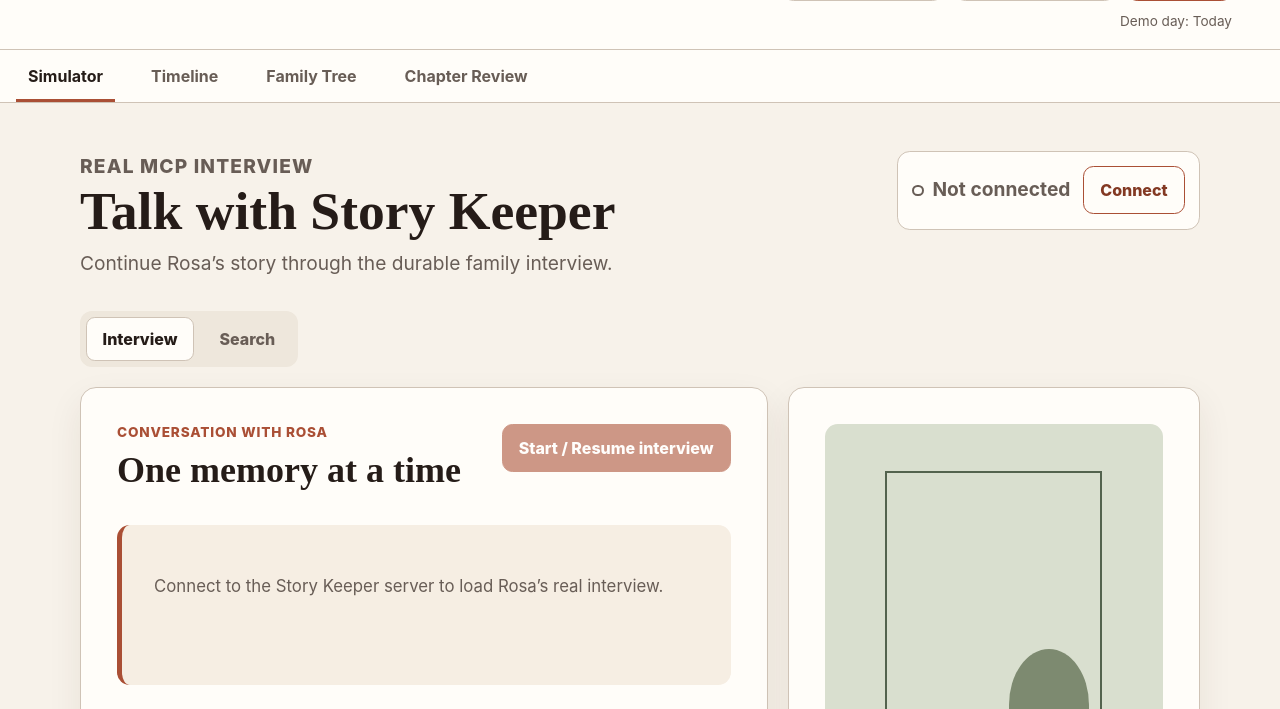
Scenario: SimulatorApp › reconnects and restores the active interview through start_interview
Click the button "Connect". click: (1134,190)
box: [1083, 166, 1185, 214]
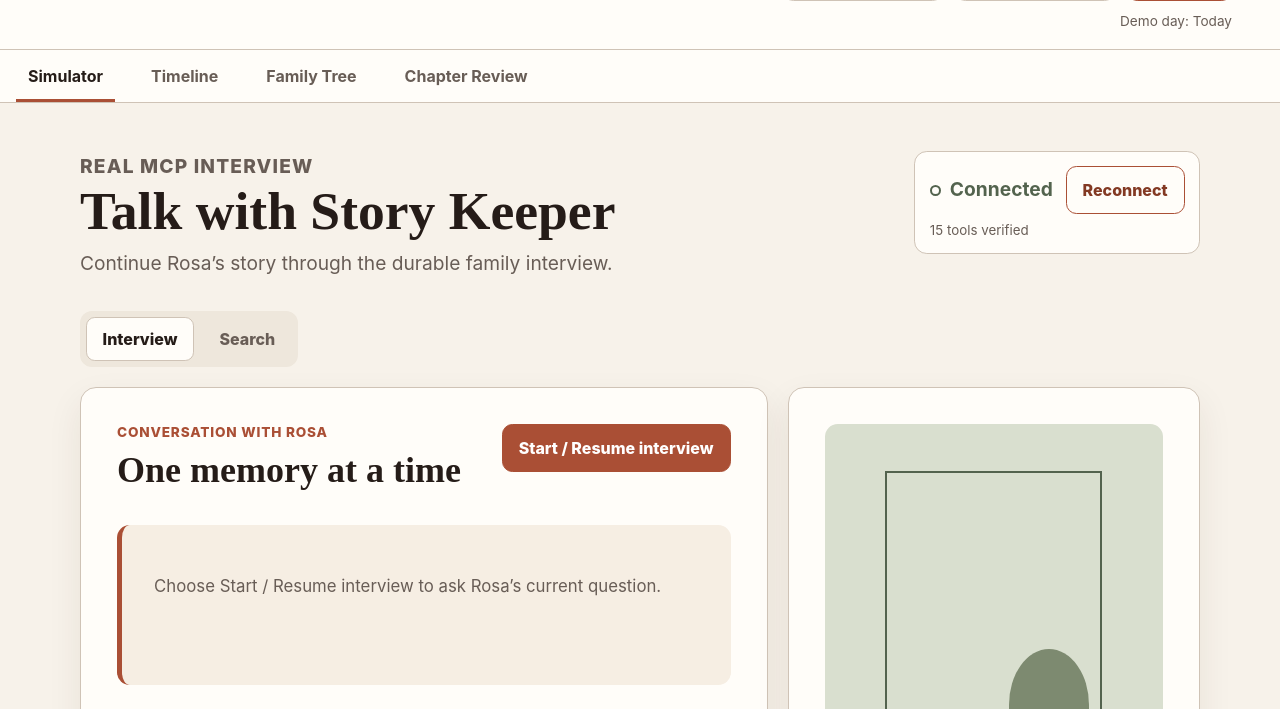
Now the text "15 tools verified" is shown, box [930, 222, 1029, 238]
Click the button "Start / Resume interview". click: (616,448)
box: [502, 424, 730, 472]
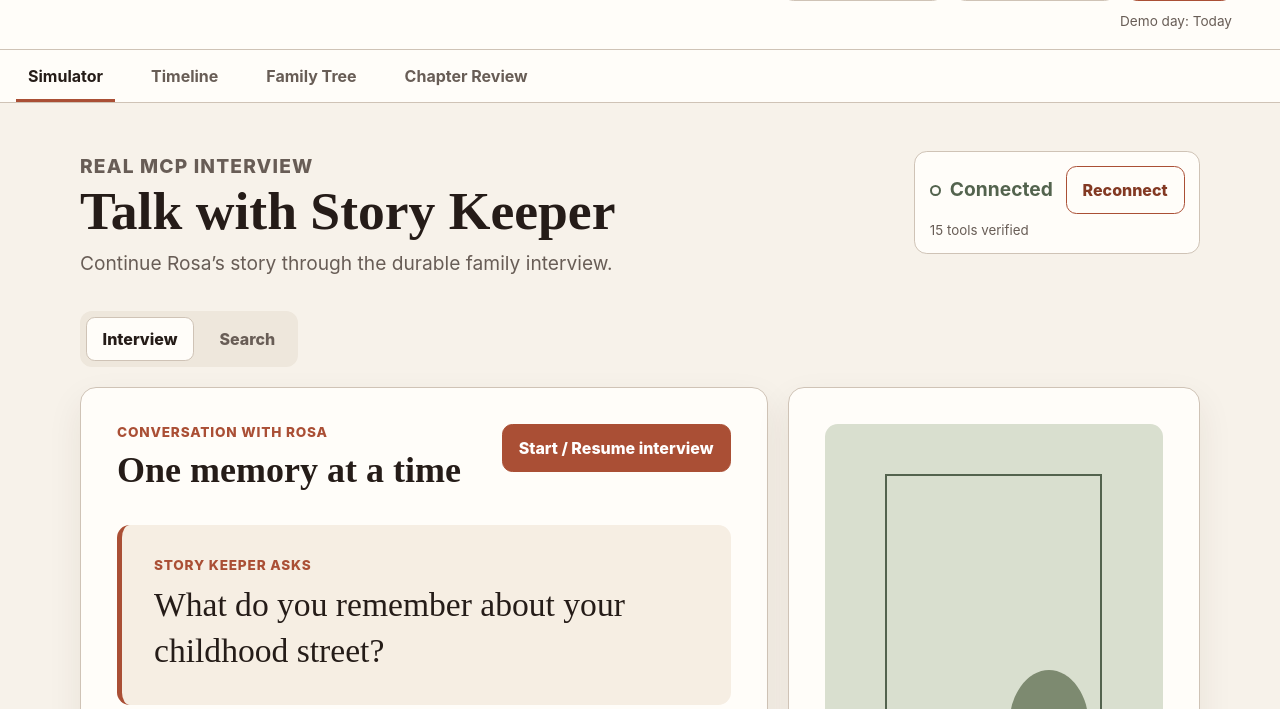
Now the text "What do you remember about your childhood street?" is shown, box [154, 582, 691, 673]
Click the button "Reconnect". click: (1125,190)
box: [1066, 166, 1185, 214]
(page scrolled)
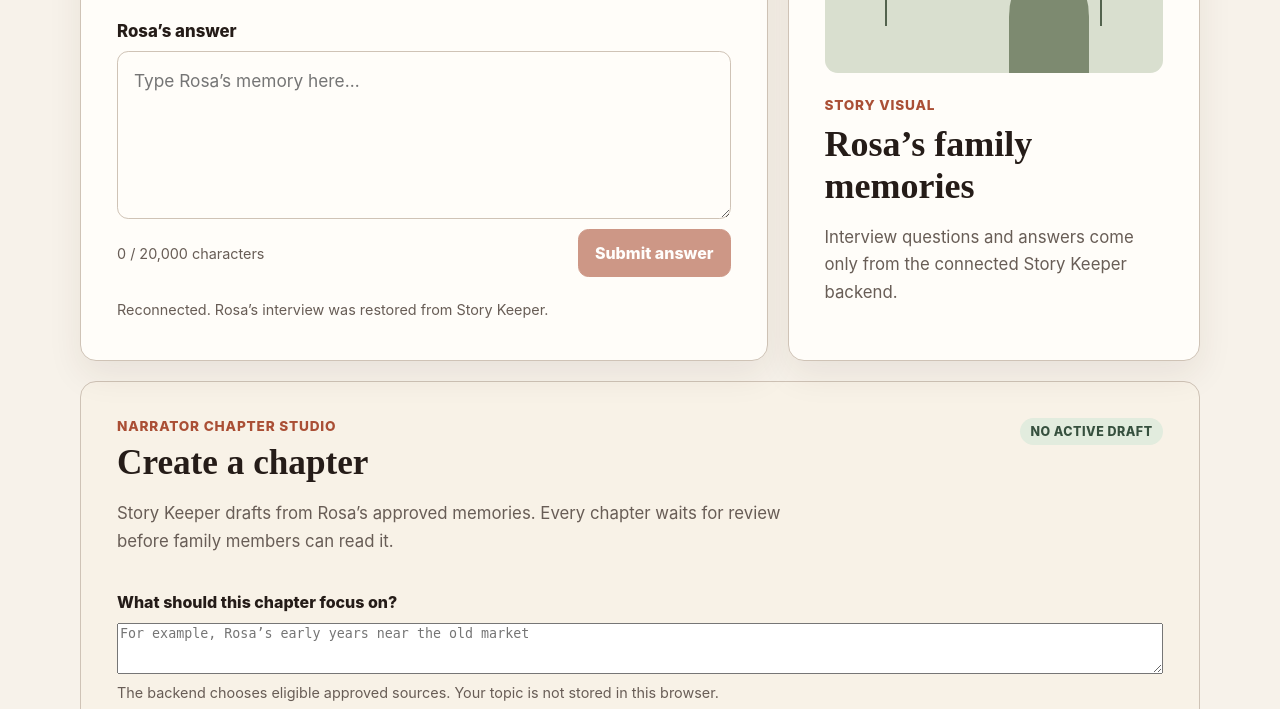
Now the text "Reconnected. Rosa’s interview was restored from Story Keeper." is shown, box [117, 301, 548, 318]
